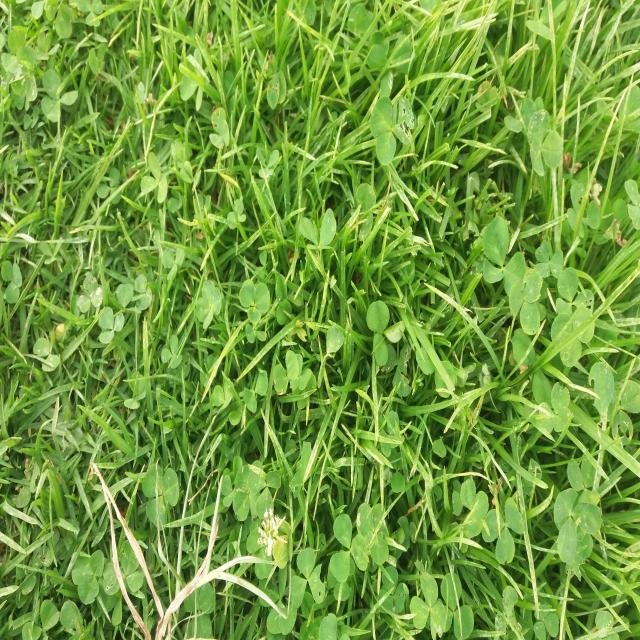Four Leaf Clover: (195, 279, 221, 329)
